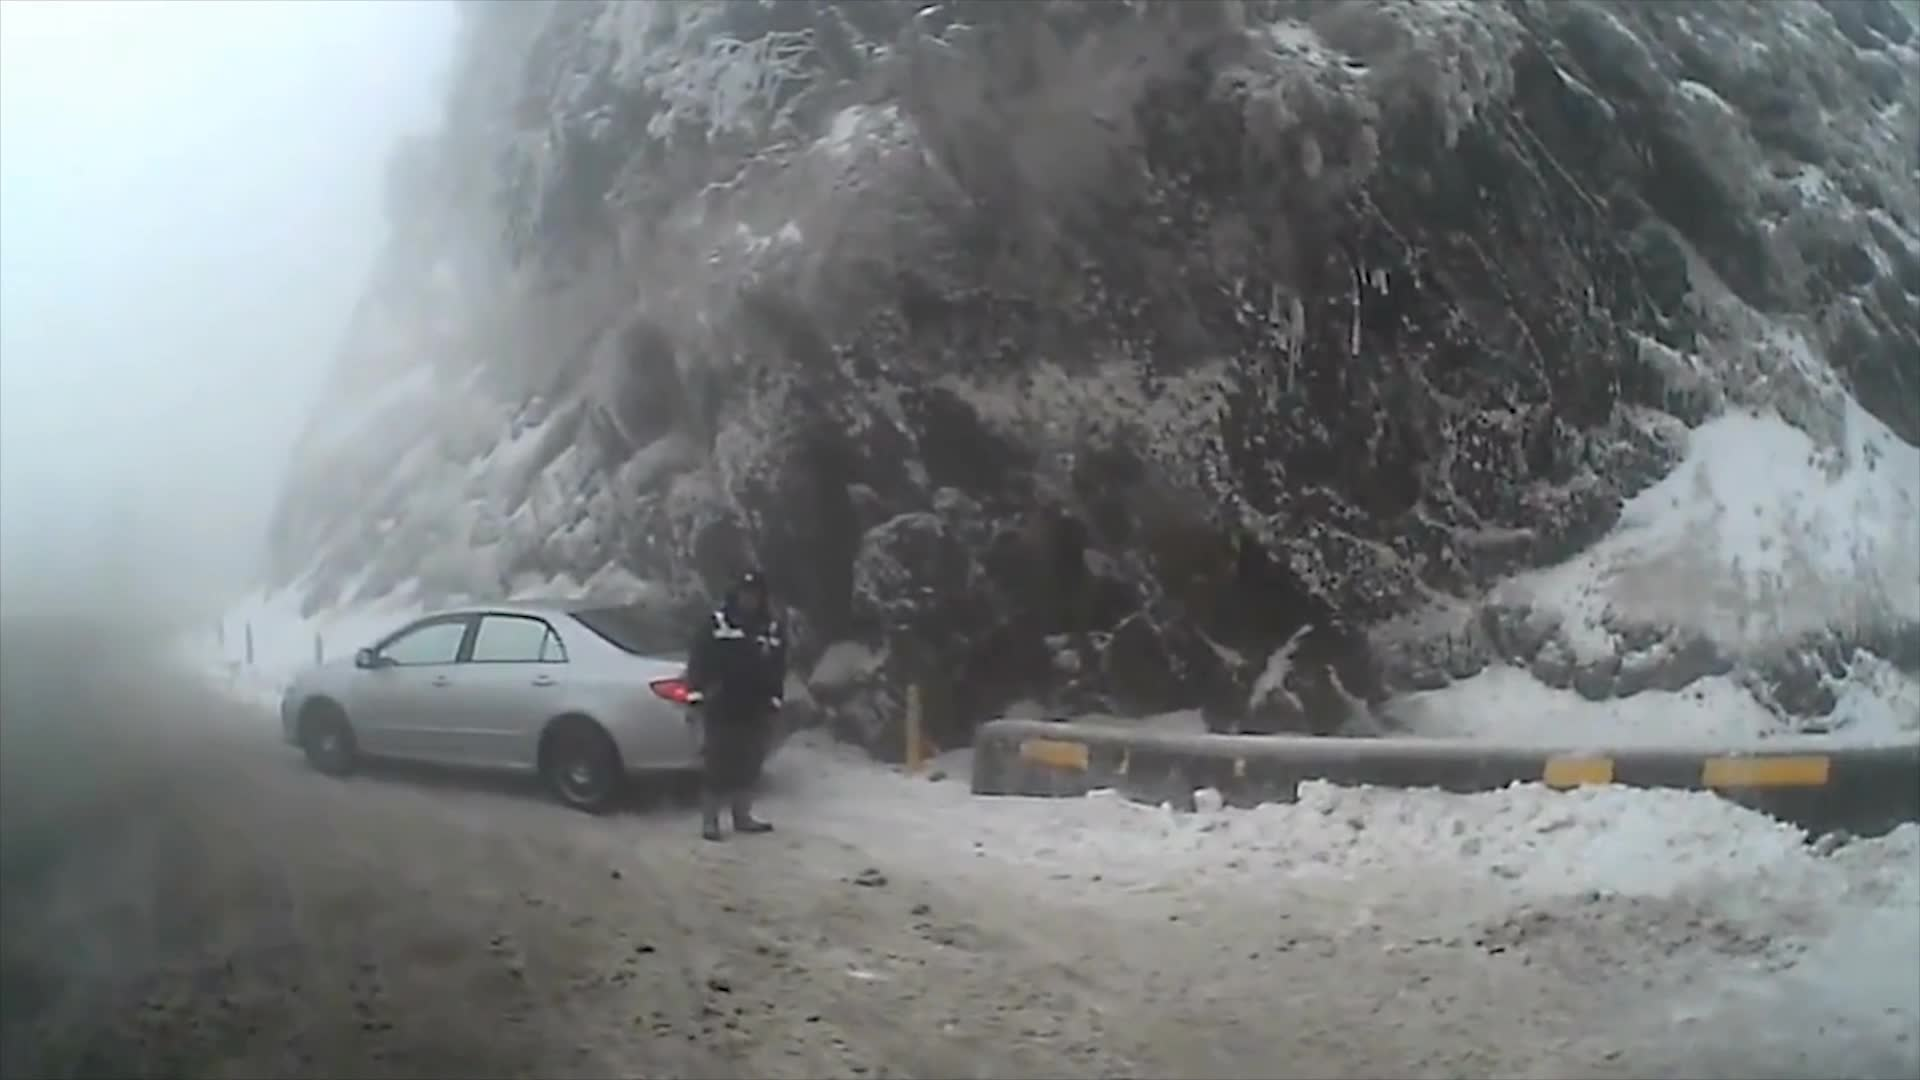pedestrian: (684, 560, 788, 834)
vehicle: (279, 595, 785, 815)
